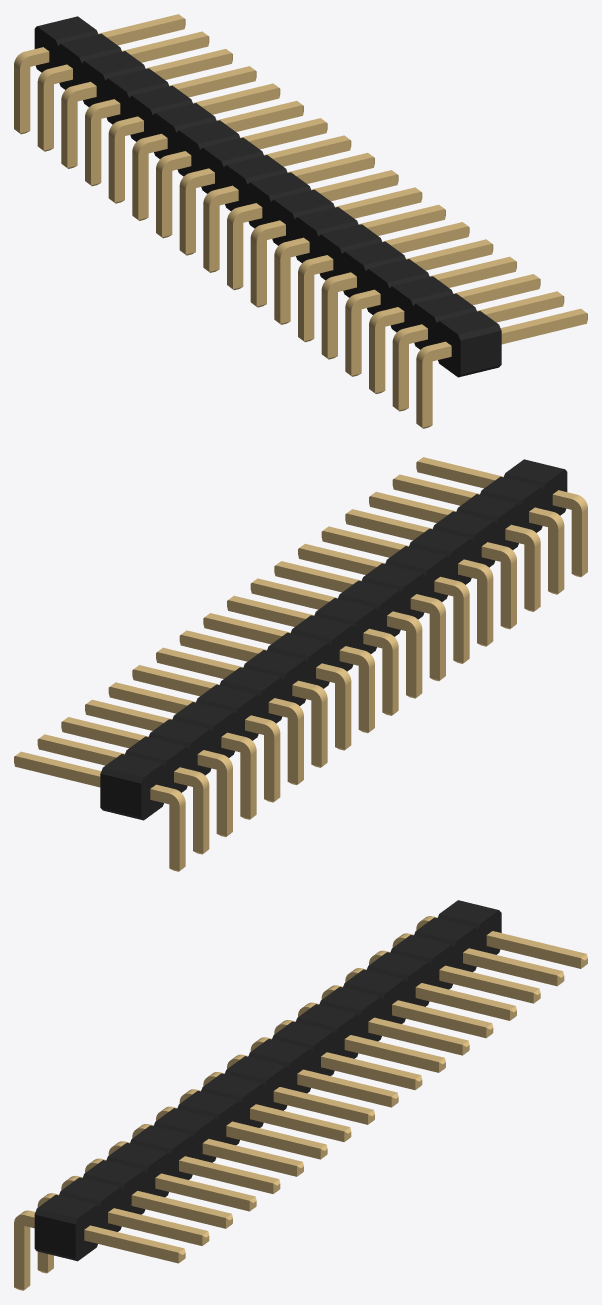
File: kc-pinheader_1x18_p2.54mm_horizontal.glb
The picture shows the model from 3 angles, top to bottom: view 1: azimuth 30°, elevation 25°; view 2: azimuth 150°, elevation 25°; view 3: azimuth 330°, elevation 25°; orthographic projection.
Visible parts, largest first — view 1: 0.75_0.5_0.25_0.9, 0_0_0_0; view 2: 0.75_0.5_0.25_0.9, 0_0_0_0; view 3: 0.75_0.5_0.25_0.9, 0_0_0_0.
Part boxes in pixels (box(x1,y1,x2,y2)): 0.75_0.5_0.25_0.9: box(14, 14, 587, 428); 0_0_0_0: box(34, 16, 501, 377); 0.75_0.5_0.25_0.9: box(14, 457, 587, 871); 0_0_0_0: box(100, 459, 567, 820); 0.75_0.5_0.25_0.9: box(14, 916, 587, 1290); 0_0_0_0: box(34, 900, 501, 1261).
Bounding box in the file's own units: 1.04 × 0.554 × 4.57.
